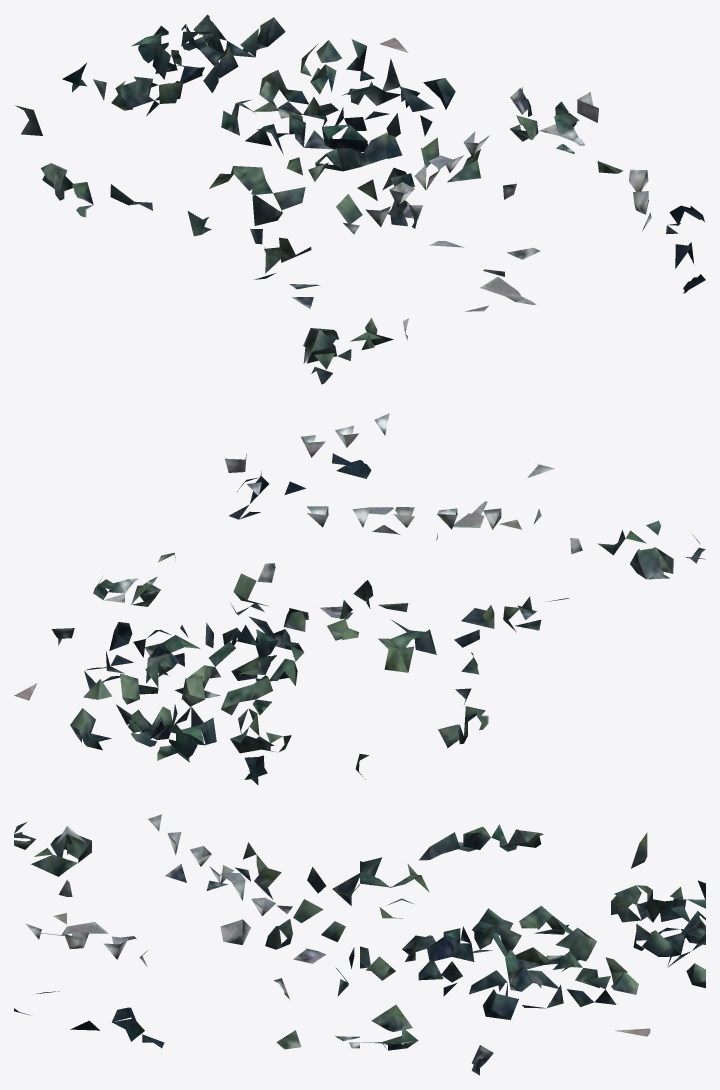
The picture shows the model from 3 angles, top to bottom: view 1: azimuth 30°, elevation 25°; view 2: azimuth 150°, elevation 25°; view 3: azimuth 270°, elevation 25°; orthographic projection. The views are drawn at different scales.
Parts seen in each view (by area): view 1: 30436272704361626_1; view 2: 30436272704361626_1; view 3: 30436272704361626_1.
Boxes of the visible parts, x1,y1,x2,y2 form: 30436272704361626_1: [15, 14, 705, 384]; 30436272704361626_1: [14, 413, 705, 785]; 30436272704361626_1: [14, 814, 705, 1075].
Bounding box in the file's own units: 218 × 59.15 × 306.
Materials: 1 (1 with a texture image).
